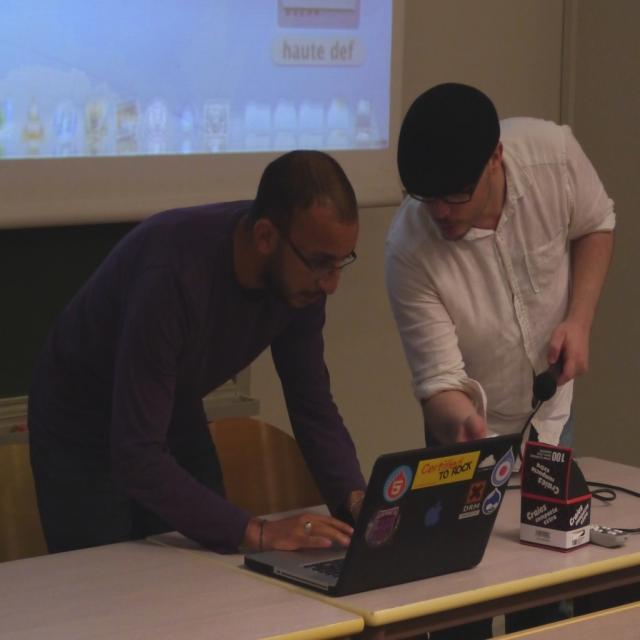desk: (164, 433, 640, 633)
laptop: (242, 433, 517, 596)
person: (25, 147, 369, 563), (383, 82, 616, 450)
